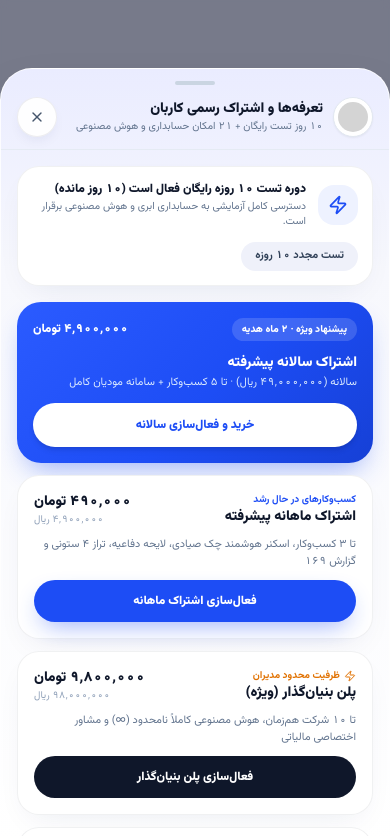
Test case: AdminRegistryView, CustomerAuthModal & Payment Approvals › SubscriptionModal پس از انتخاب پلن برای کاربر احرازشده فرم ارسال کد پیگیری به ادمین را نمایش می‌دهد
This screenshot has width=390, height=836.
Later steps or results of the test are not shown.
What coordinates should you click on to do the following:
click the button "خرید و فعال‌سازی سالانه"
I would click on:
 (195, 425)
Its box is 33,403 -> 357,447.
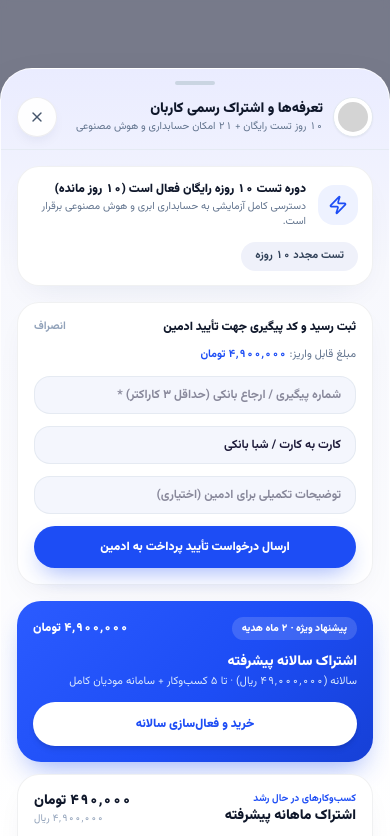
Now the form with test id "payment-request-form" is shown, box 17,302 -> 373,584
